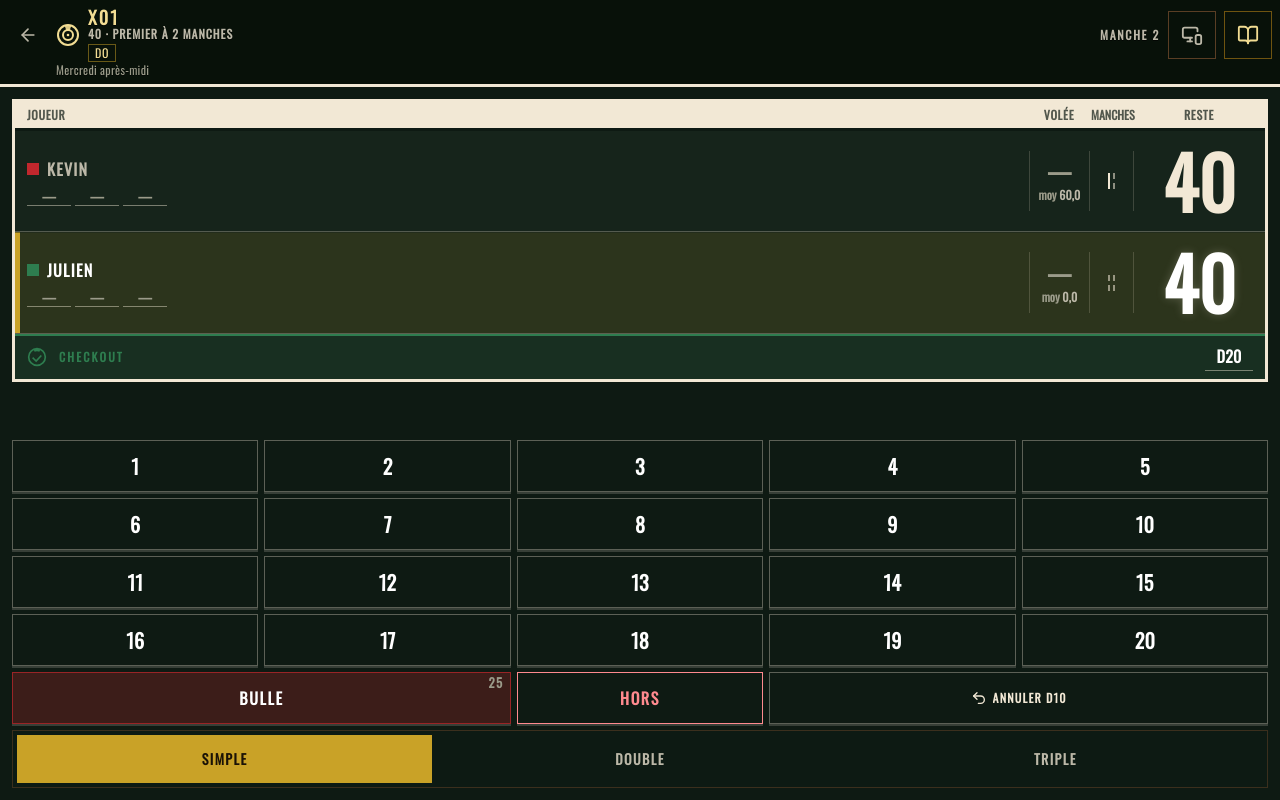
Test: La touche Annuler, une fléchette par appui (X01) › une manche gagnée défaite : elle n’est plus gagnée
Check: the text "Manche 2" is shown, box x1=1100 y1=27 x2=1160 y2=43
Step 1. Click the button "Annuler D10" → (1019, 698), box x1=769 y1=672 x2=1268 y2=724
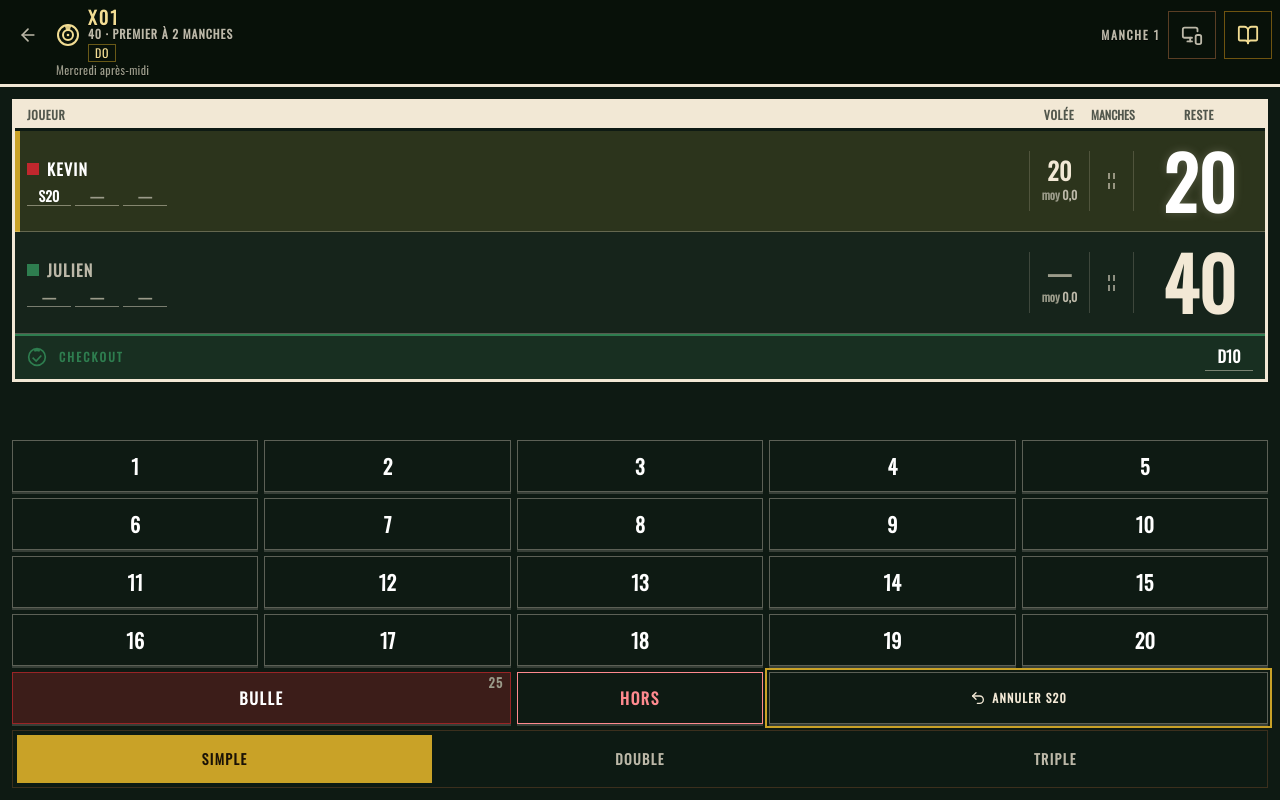
Check: the text "Manche 1" is shown, box x1=1101 y1=27 x2=1160 y2=43
Check: the element named "Score restant de Kevin" reads "20", box x1=1163 y1=127 x2=1236 y2=234
